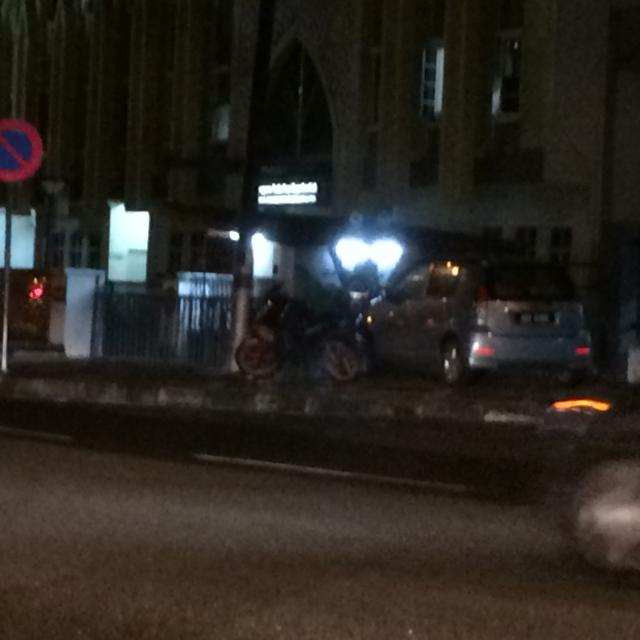Motorbike: (237, 263, 376, 387)
